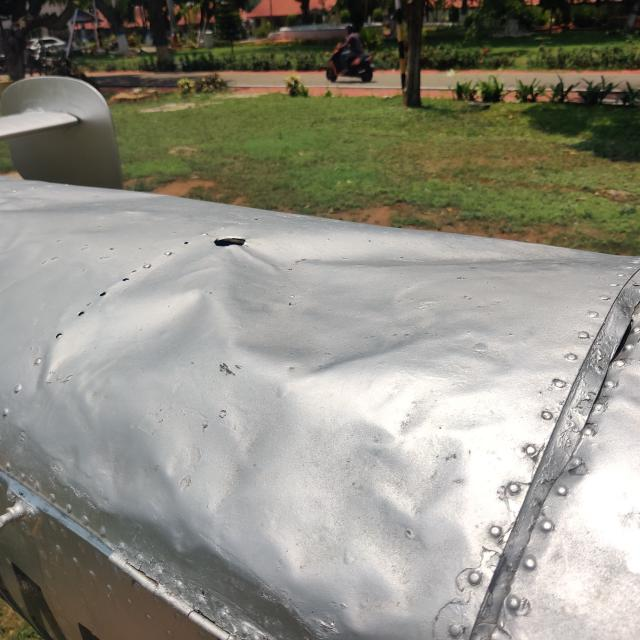dent: (208, 253, 426, 398), (25, 264, 224, 415), (338, 404, 478, 536)
